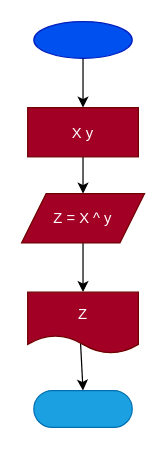
Image size: 166x449. Some labels were removed from this diagram. The shapes that lost their labels are listed below. From the top down, each one's centre as x and y in pixels, then its label:
point 82,39: INICIO
point 82,408: FIN
